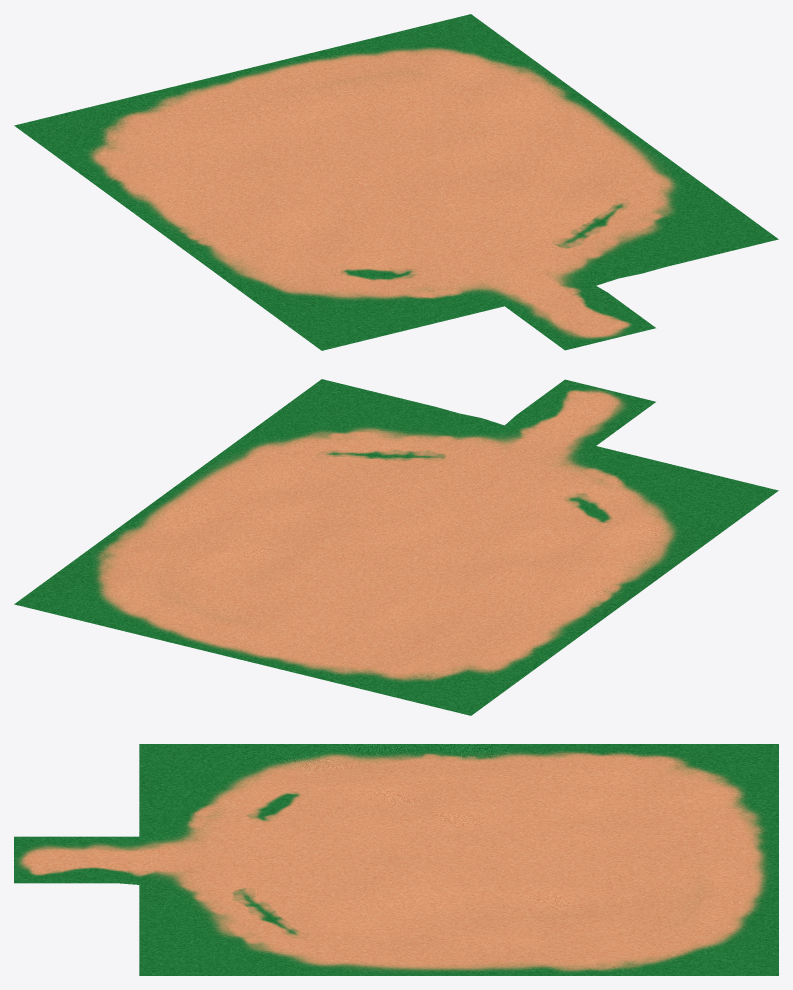
Rendered from Terrain_Stage2_Asset.fbx.
3 views of the same model, one above another, from view 1: azimuth 30°, elevation 25°; view 2: azimuth 150°, elevation 25°; view 3: azimuth 270°, elevation 25° (orthographic). The views are drawn at different scales.
Visible parts, largest first — view 1: Terrain_Stage2_Asset; view 2: Terrain_Stage2_Asset; view 3: Terrain_Stage2_Asset.
Part boxes in pixels (x1=…): Terrain_Stage2_Asset: x1=14, y1=14, x2=778, y2=350; Terrain_Stage2_Asset: x1=14, y1=379, x2=778, y2=715; Terrain_Stage2_Asset: x1=14, y1=744, x2=778, y2=975.
Bounding box in the file's own units: 36.84 × 0.5268 × 51.4.
